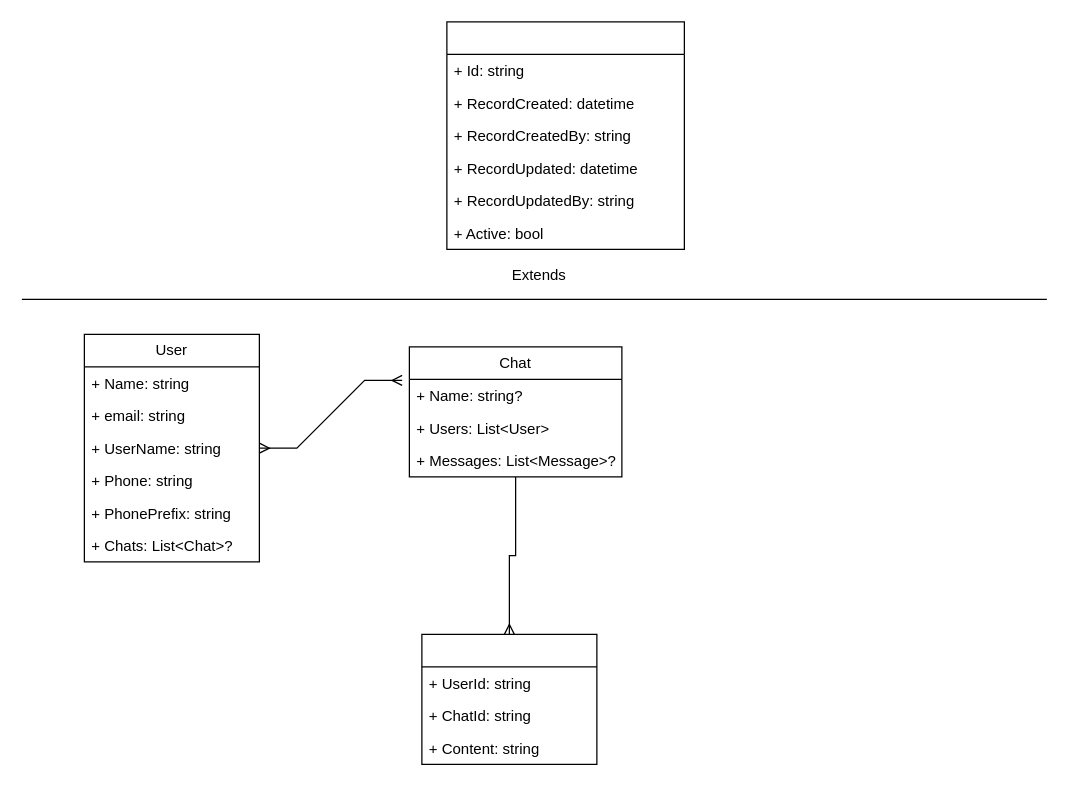
This 1069x790 diagram has some shape labels left out. Here are the shapes that lost their labels. From the top down, the box of each, then its label:
(446, 21, 684, 249): EntityBase
(421, 633, 597, 764): Message
